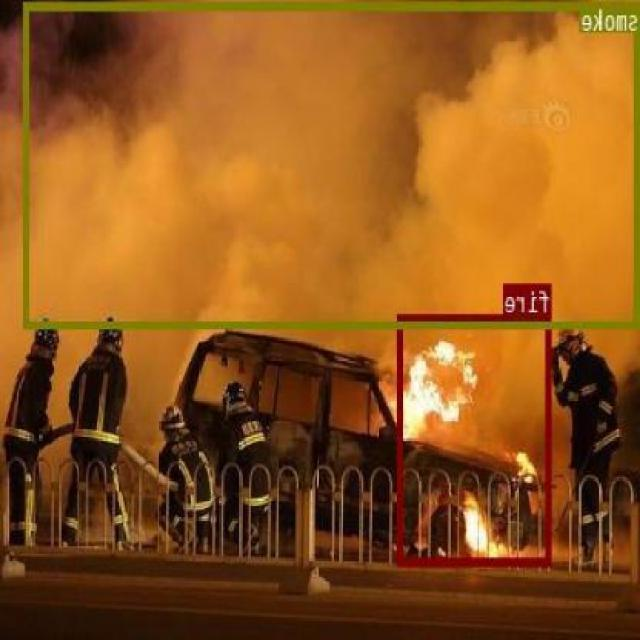Fire: (398, 313, 552, 564)
Smoke: (25, 1, 640, 326)
